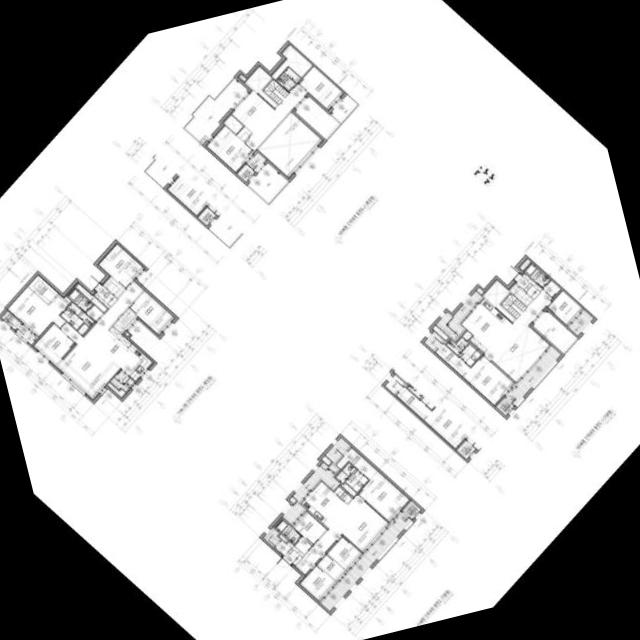background: (0, 0, 640, 640)
space_balconi: (321, 511, 412, 611), (186, 78, 248, 143), (282, 461, 341, 524), (506, 346, 561, 405), (436, 290, 482, 338), (533, 310, 577, 352), (248, 162, 288, 201), (330, 95, 356, 121), (569, 310, 594, 335), (325, 437, 350, 462), (110, 369, 134, 391), (16, 324, 37, 344), (424, 330, 445, 349), (247, 151, 266, 171), (263, 526, 280, 545)
space_bedroom: (7, 286, 69, 336), (358, 470, 410, 521), (463, 354, 514, 404), (207, 125, 254, 171), (98, 242, 144, 288), (129, 289, 174, 334), (298, 65, 343, 109), (34, 323, 75, 364), (300, 564, 336, 601), (548, 290, 583, 325), (327, 536, 362, 570), (293, 511, 326, 544)
space_dressroom: (336, 446, 378, 479), (435, 343, 471, 376), (28, 274, 58, 303)
space_front: (275, 540, 304, 565), (516, 273, 542, 299), (94, 284, 118, 307)
space_kitchen: (96, 326, 152, 380), (461, 298, 510, 351), (301, 480, 348, 527)
space_living_room: (57, 280, 144, 398), (296, 494, 389, 574), (484, 289, 552, 382), (232, 83, 307, 150)
space_other: (257, 111, 322, 176), (295, 96, 339, 138), (272, 44, 312, 79), (483, 279, 515, 321), (246, 66, 277, 107), (76, 282, 107, 312), (318, 553, 346, 581), (500, 292, 527, 318), (262, 78, 289, 104), (113, 308, 137, 333), (509, 283, 533, 305), (102, 275, 124, 297), (224, 114, 243, 133), (543, 279, 561, 297), (334, 486, 352, 503), (295, 536, 312, 553), (86, 304, 103, 321), (107, 382, 125, 396), (432, 324, 448, 339), (340, 482, 356, 496), (237, 126, 252, 140), (520, 258, 530, 270), (462, 330, 472, 340), (321, 455, 331, 465), (279, 533, 288, 542), (476, 287, 483, 294), (289, 496, 296, 503), (64, 295, 71, 302), (239, 74, 246, 80), (125, 331, 129, 335)
space_outdoor_room: (1, 310, 21, 329), (402, 500, 421, 519), (496, 396, 514, 415), (237, 163, 255, 181)
space_toilet: (61, 302, 94, 334), (446, 336, 481, 365), (336, 462, 368, 491), (524, 262, 550, 287), (275, 518, 301, 543), (68, 287, 93, 312), (277, 67, 300, 90)
